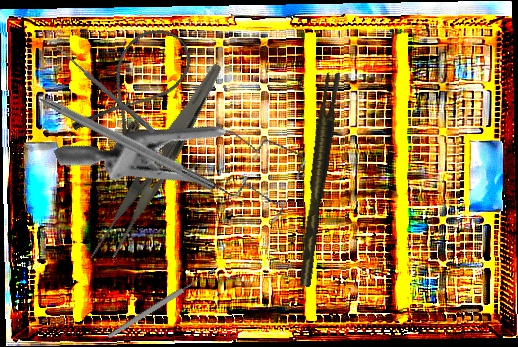Cannula: (67, 15, 202, 163)
Dressing Forceps: (86, 51, 224, 273)
Hook Surgical: (12, 78, 218, 193)
Speculum: (53, 56, 323, 293)
Surgical Spoon: (53, 44, 157, 134), (106, 267, 217, 340)
Tissue Forceps: (288, 70, 348, 288)
